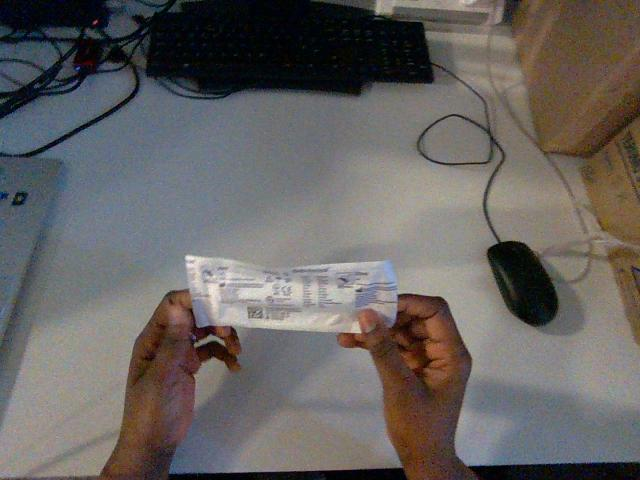syringe: (185, 255, 397, 332)
